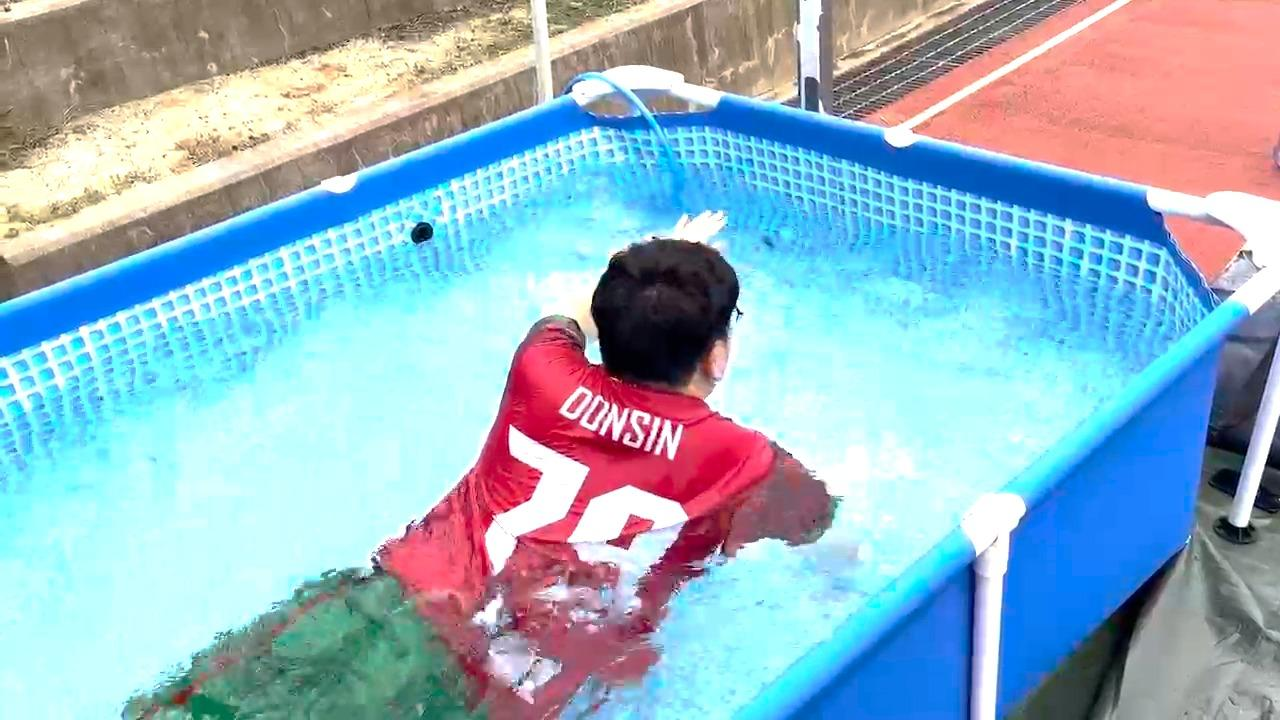Swimming: (72, 217, 907, 720)
